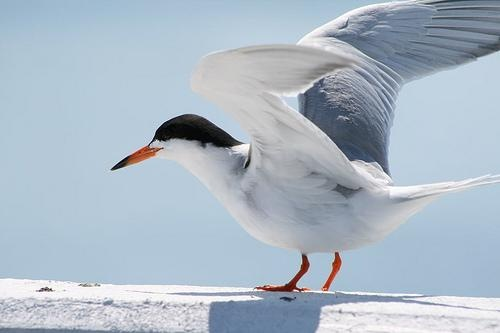bird: (108, 1, 497, 293)
